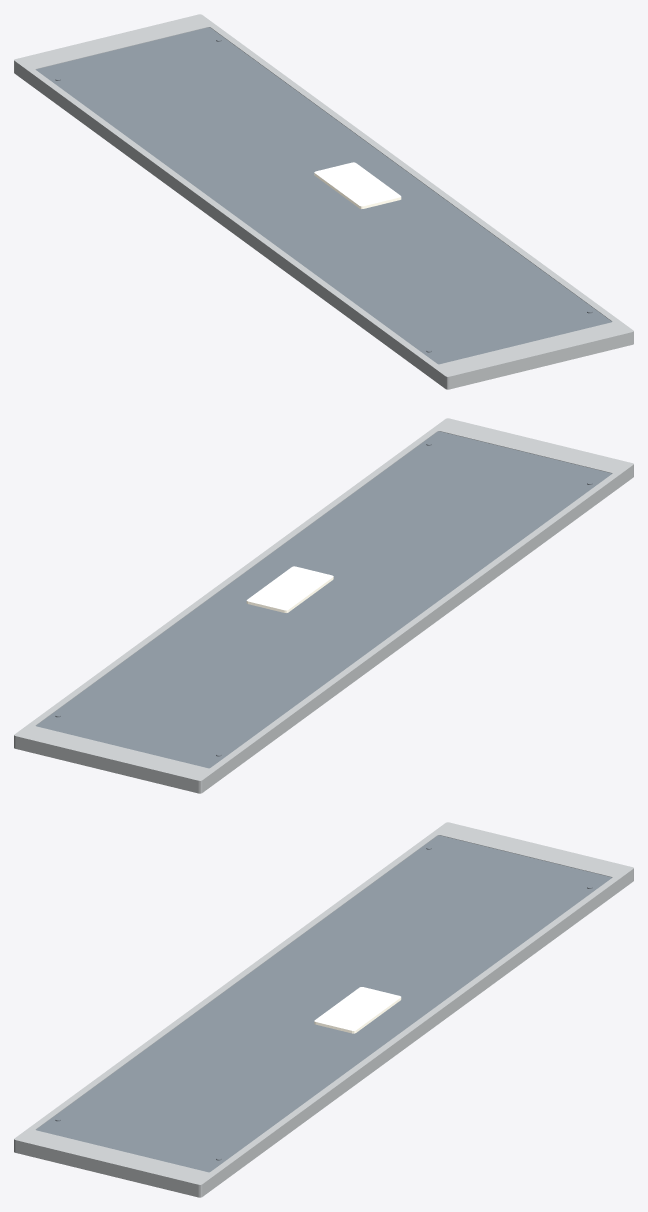
File: source.glb
The picture shows the model from 3 angles, top to bottom: view 1: azimuth 30°, elevation 25°; view 2: azimuth 150°, elevation 25°; view 3: azimuth 330°, elevation 25°; orthographic projection.
Parts seen in each view (by area): view 1: 机加工金属, 粉末涂层铝壳, Emitters; view 2: 机加工金属, 粉末涂层铝壳, Emitters; view 3: 机加工金属, 粉末涂层铝壳, Emitters.
Boxes of the visible parts, box(x1,y1,x2,y2) form: 机加工金属: box(36, 27, 611, 364); 粉末涂层铝壳: box(14, 14, 633, 389); Emitters: box(314, 162, 401, 208); 机加工金属: box(36, 431, 611, 768); 粉末涂层铝壳: box(14, 418, 633, 793); Emitters: box(246, 566, 333, 612); 机加工金属: box(36, 835, 611, 1172); 粉末涂层铝壳: box(14, 822, 633, 1197); Emitters: box(314, 987, 401, 1033).
Size of the model in its own units: 0.3 by 0.0299 by 1.2.
